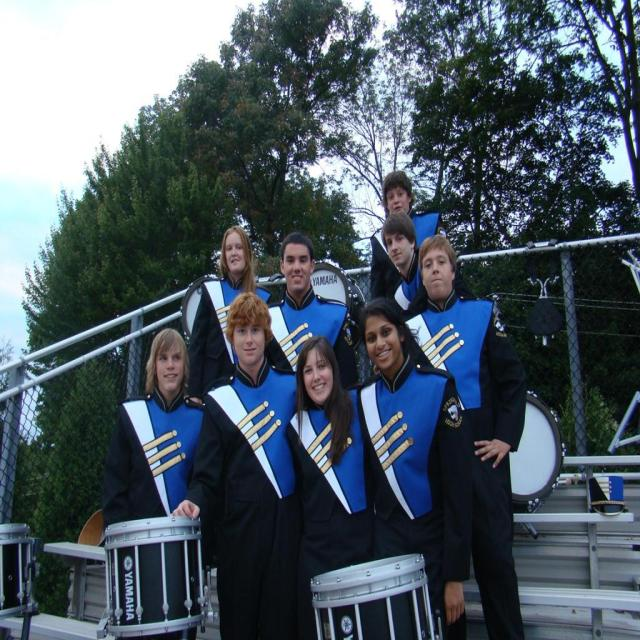Face: (145, 329, 194, 399), (301, 335, 339, 416), (225, 307, 273, 368), (422, 243, 463, 307), (364, 313, 405, 376), (283, 235, 316, 299), (381, 174, 418, 223), (215, 225, 249, 278), (384, 224, 414, 281)
